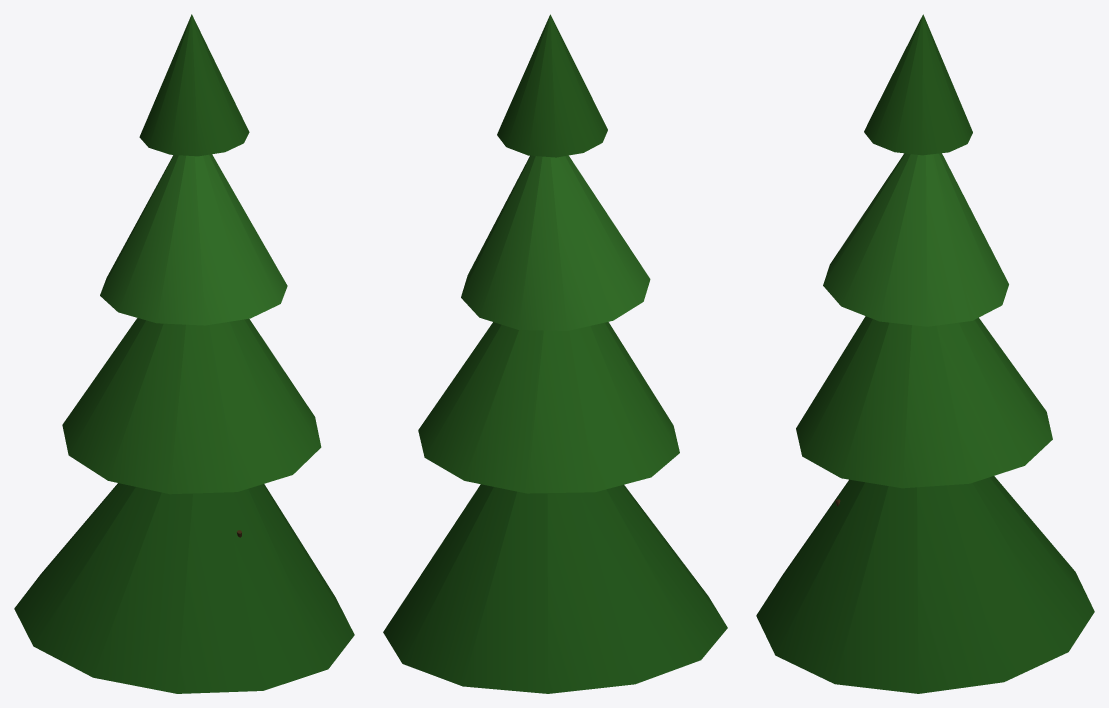
The model's file is tree_01.glb.
3 renders of one model, left to right at view 1: azimuth 30°, elevation 25°; view 2: azimuth 150°, elevation 25°; view 3: azimuth 270°, elevation 25°, orthographic.
Bounding box in the file's own units: 2.59 × 5.5 × 2.6.
